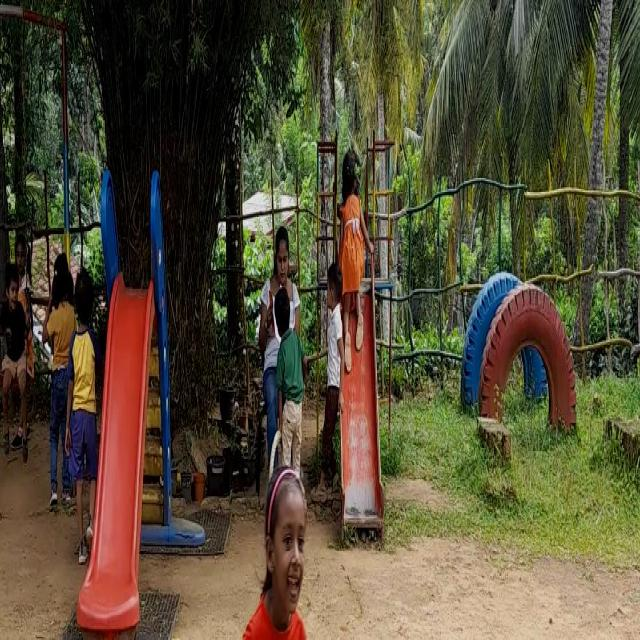child: (238, 465, 318, 640), (45, 238, 81, 516), (68, 272, 99, 557), (0, 253, 30, 474), (315, 269, 342, 499), (342, 136, 368, 354)
